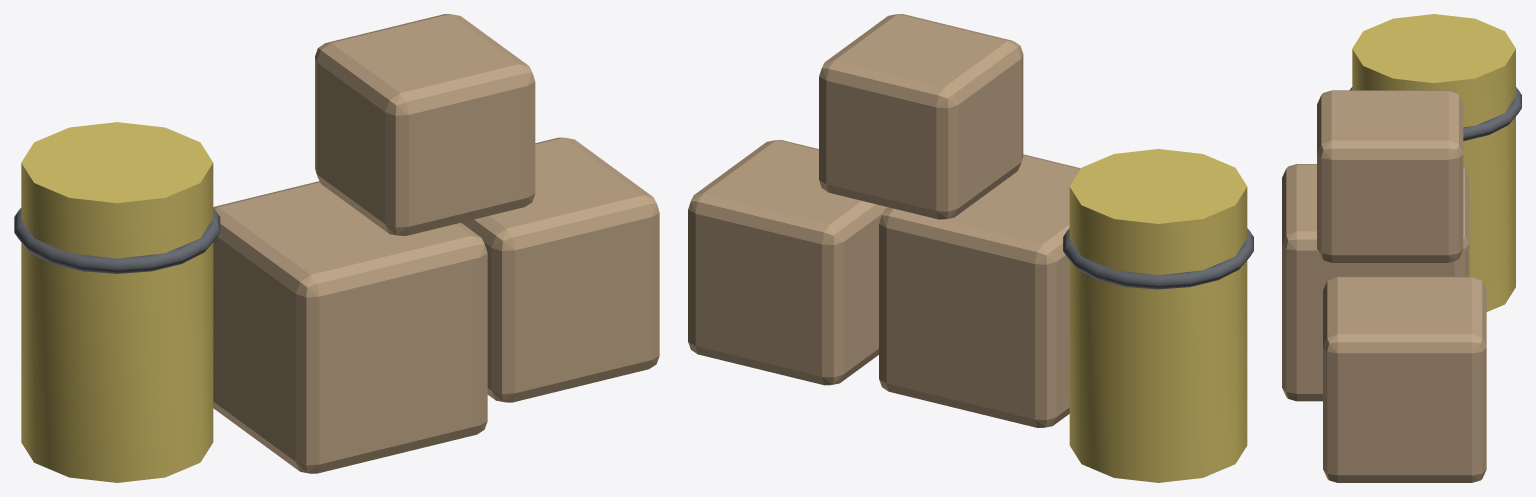
File: crates.glb
3 views of the same model, side by side, from view 1: azimuth 30°, elevation 25°; view 2: azimuth 150°, elevation 25°; view 3: azimuth 270°, elevation 25° (orthographic). The views are drawn at different scales.
Parts seen in each view (by area): view 1: crates_Palette; view 2: crates_Palette; view 3: crates_Palette.
Part boxes in pixels (<box>): crates_Palette: <box>14,14,659,482</box>; crates_Palette: <box>688,14,1253,482</box>; crates_Palette: <box>1282,14,1521,482</box>.
Size of the model in its own units: 1.94 by 1.09 by 0.8204.
